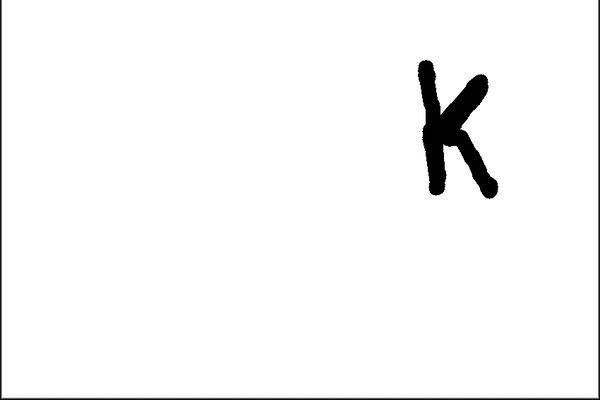K: (407, 51, 505, 210)
